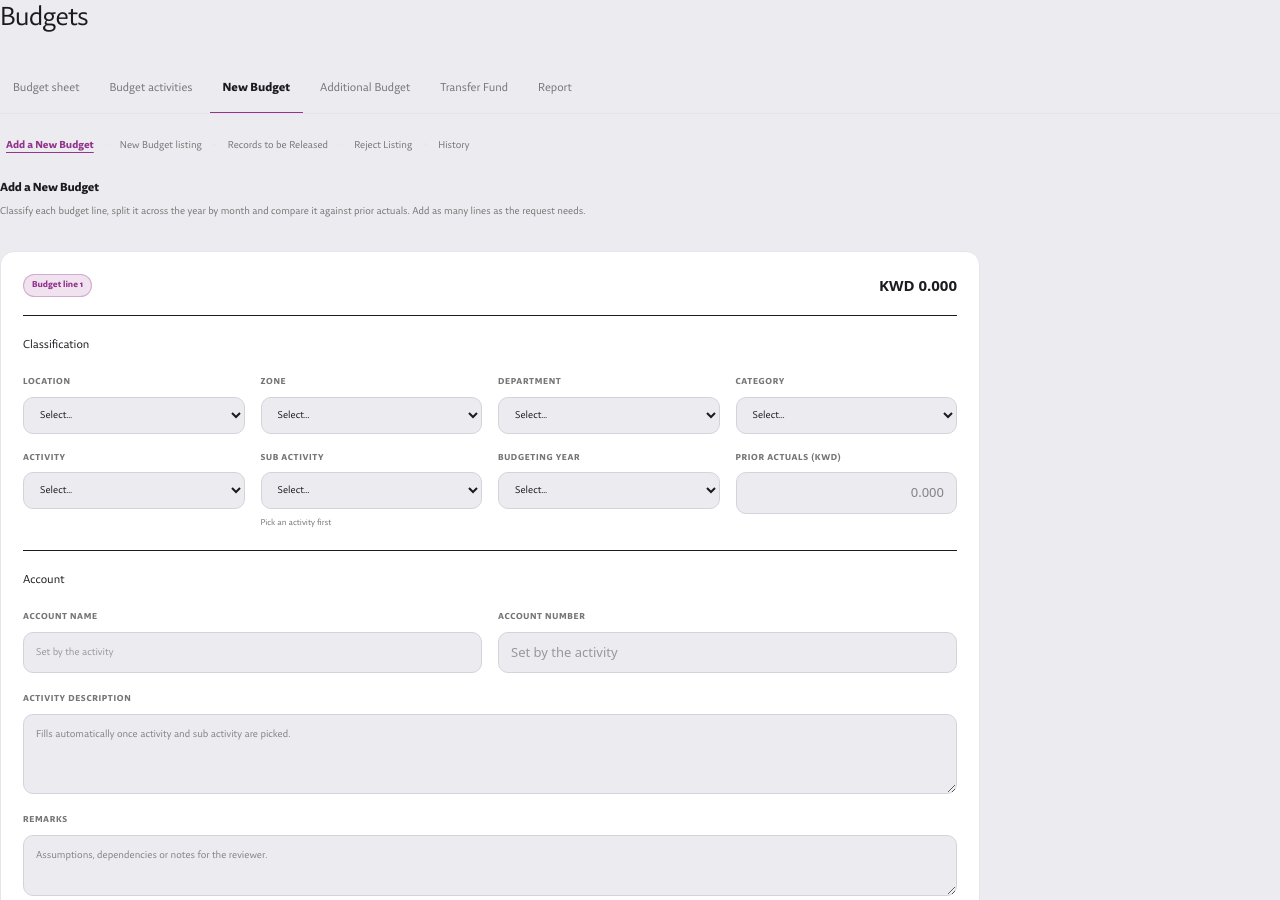
Test: HomeBudgetingPage › enforces the prototype New Budget fields, derives account data, and submits without persistence
Select "The Avenues" in the dropdown labelled "Location": (134, 415) [23, 397, 244, 434]
Select "Marketing" in the dropdown labelled "Department": (609, 415) [498, 397, 720, 434]
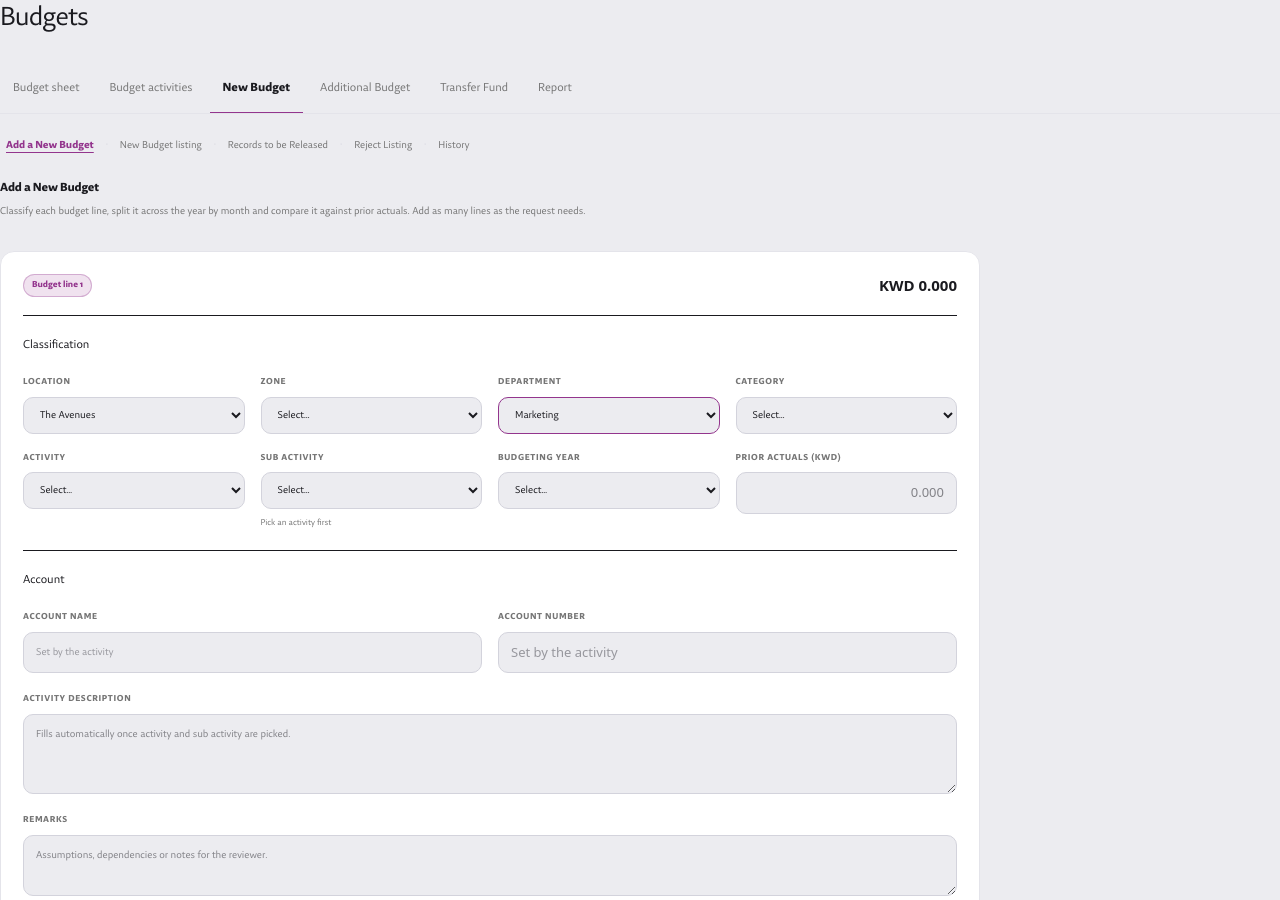
Select "Marketing & Campaigns" in the dropdown labelled "Activity": (134, 491) [23, 472, 244, 509]
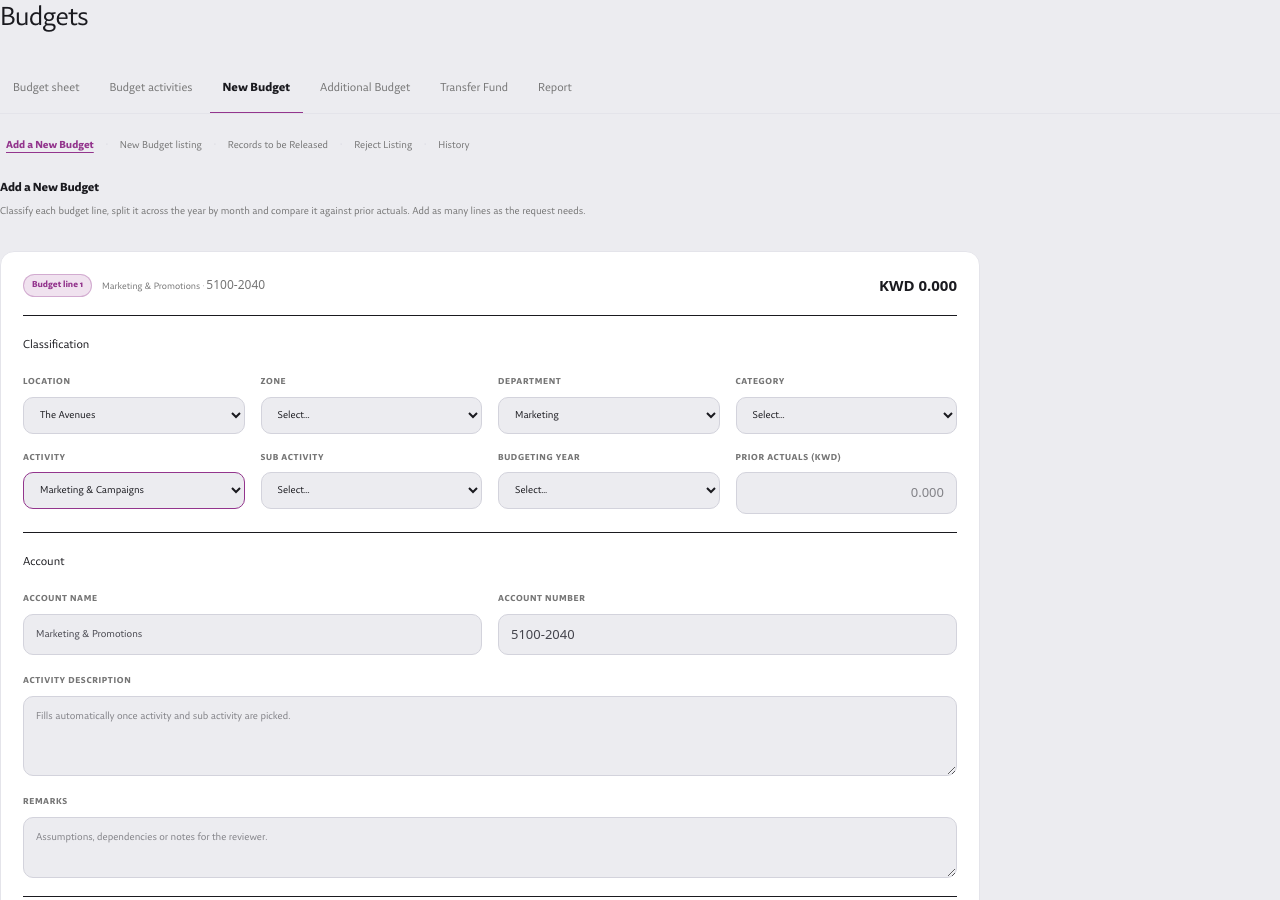
Select "Seasonal campaigns" in the dropdown labelled "Sub activity": (371, 491) [260, 472, 482, 509]
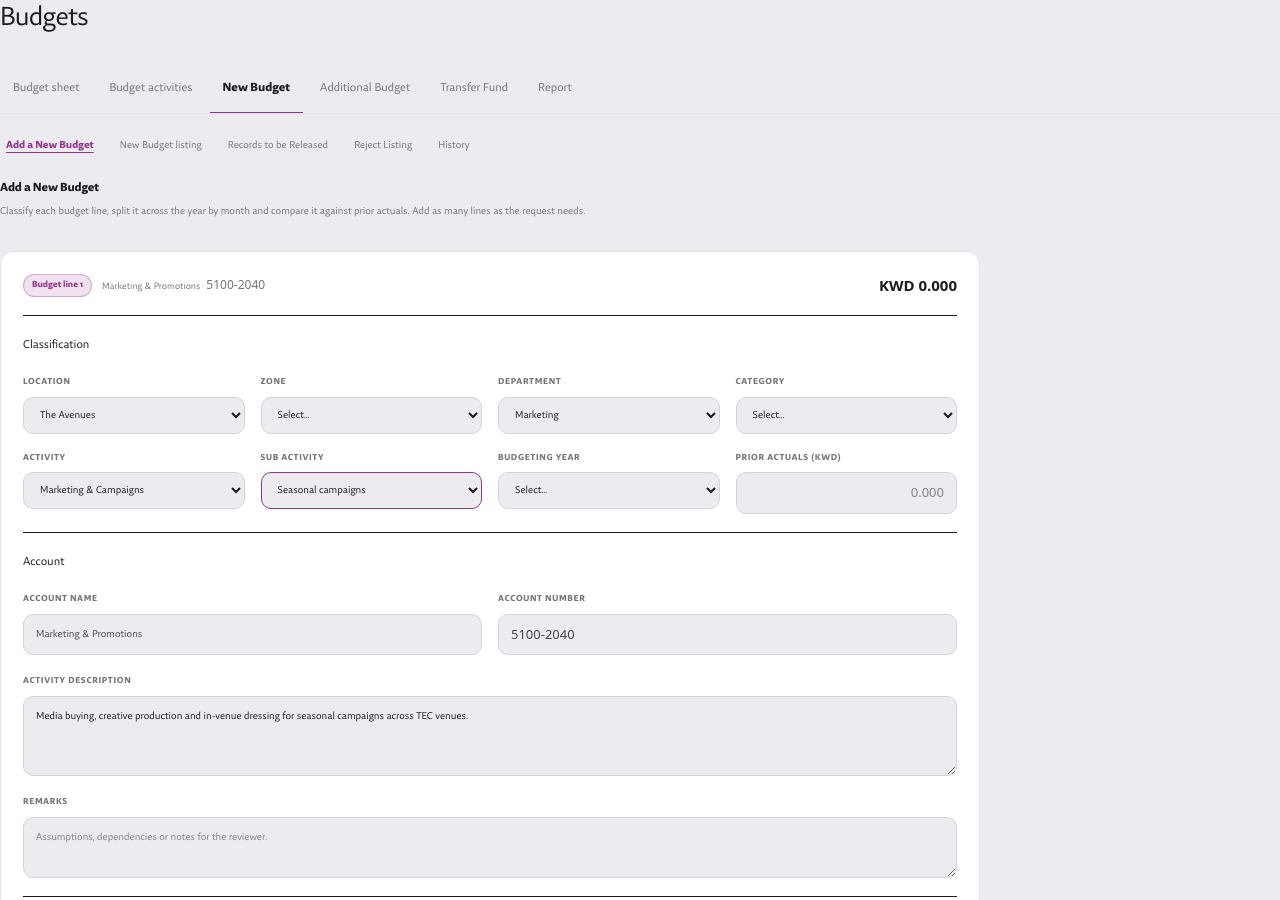
Select "2026" in the dropdown labelled "Budgeting year": (609, 491) [498, 472, 720, 509]
(page scrolled)
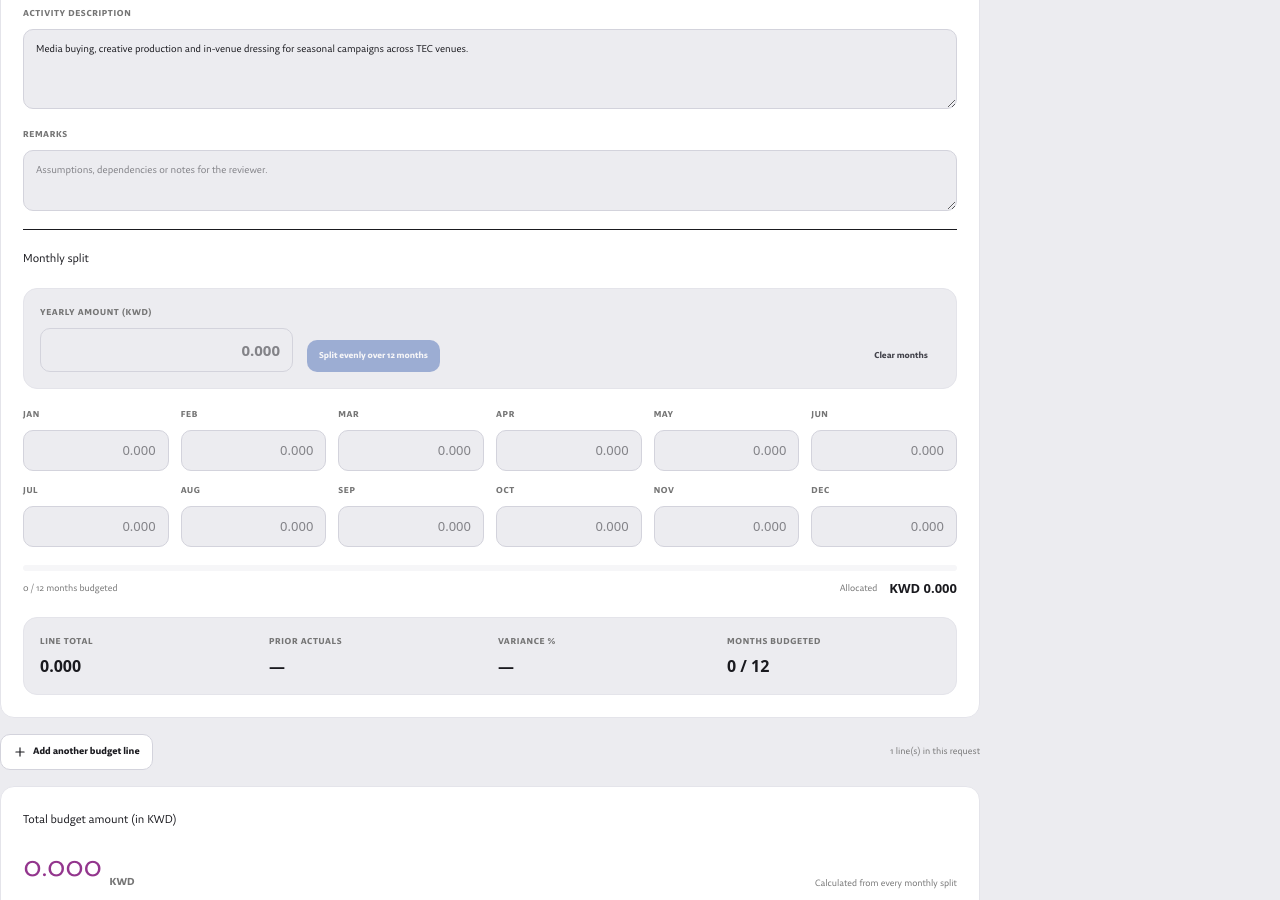
In the field labelled "Jan": (96, 451) [23, 430, 169, 471], type "1000"
(page scrolled)
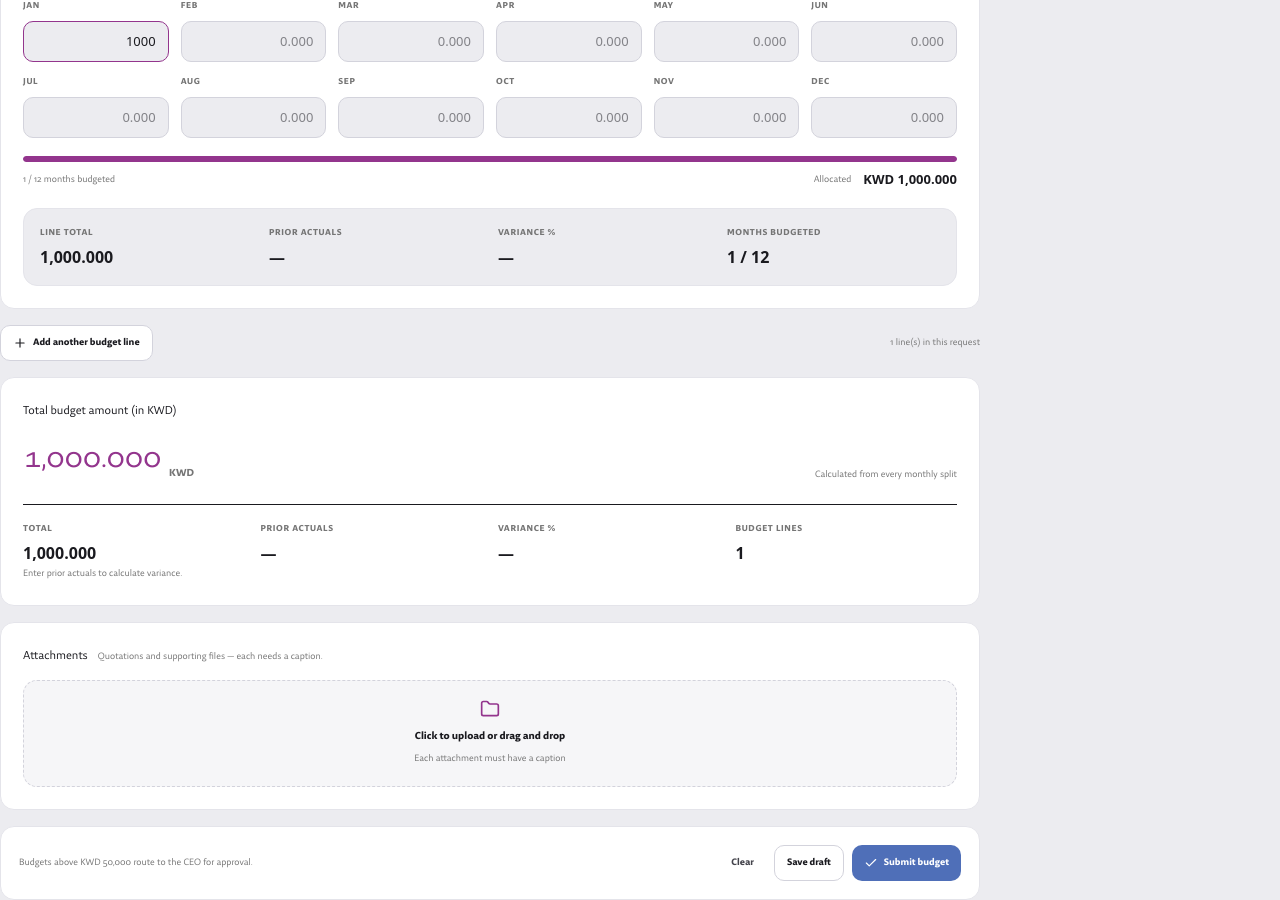
Expected: the button "Submit budget" is enabled
Click the button "Submit budget": (906, 863) [852, 845, 961, 881]
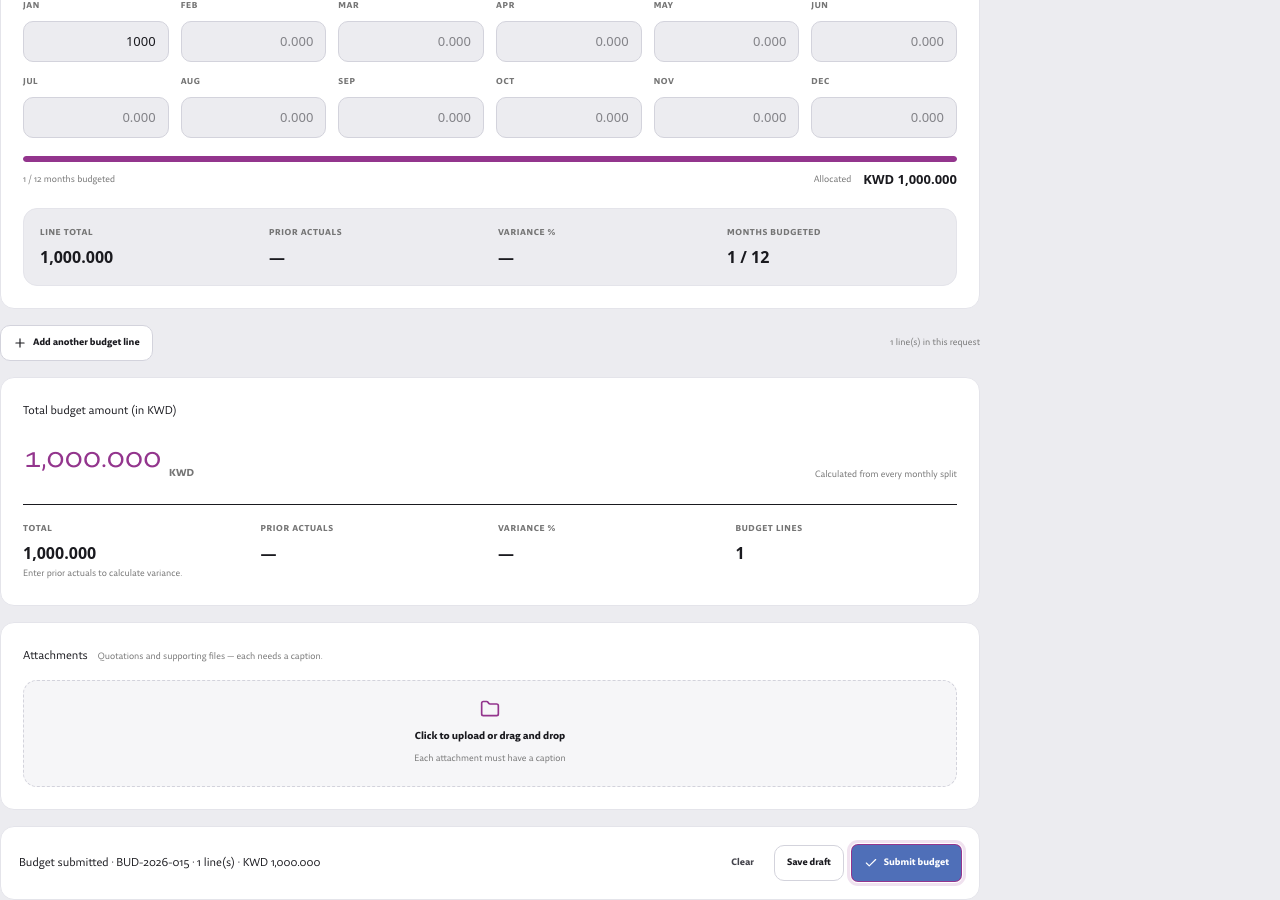
Expected: the text "Budget submitted · BUD-2026-015 · 1 line(s) · KWD 1,000.000" is shown, [19, 852, 320, 875]
